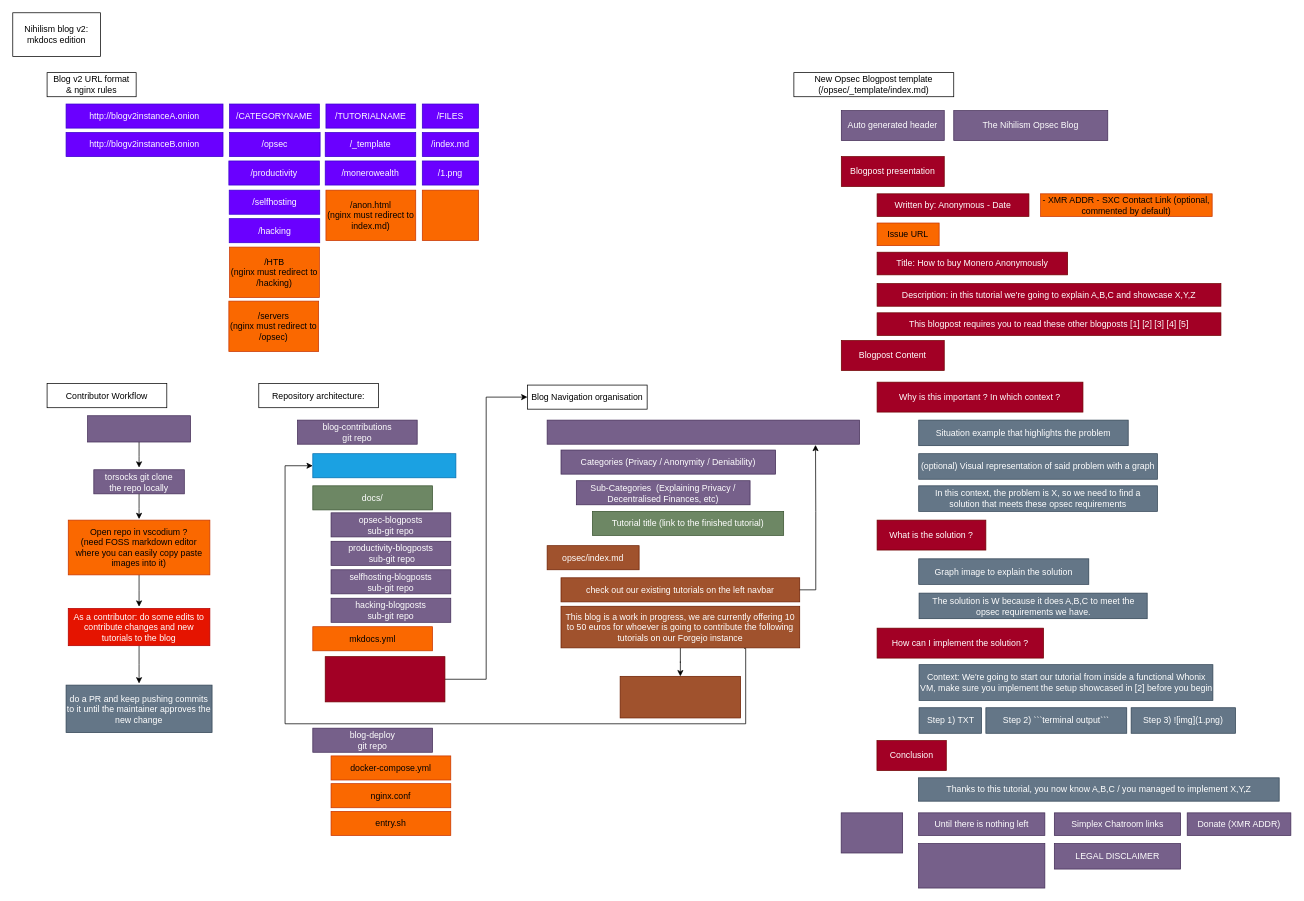
Image size: 1304x901. Some labels were removed from this diagram. The box of each missing label's shape, as (x1, y1, x2, y2) in pixels:
/index.html (nginx musr redirect to index.md): (422, 189, 479, 241)
Auto generated footer: (840, 812, 903, 853)
Creative commons 0 (no rights reserved (public domain): (918, 843, 1045, 888)
Fork the opsec-blogposts repo on git: (87, 415, 191, 442)
Git issues #204, #205, etc: (312, 453, 456, 478)
Here's the How to contribute guide: (619, 676, 741, 718)
Left navigation bar on Opsec / Productivity / Self-hosting / Hacking: (546, 419, 860, 444)
nav: the list of all blogposts, in all of their subcategories, etc: (324, 656, 445, 702)
